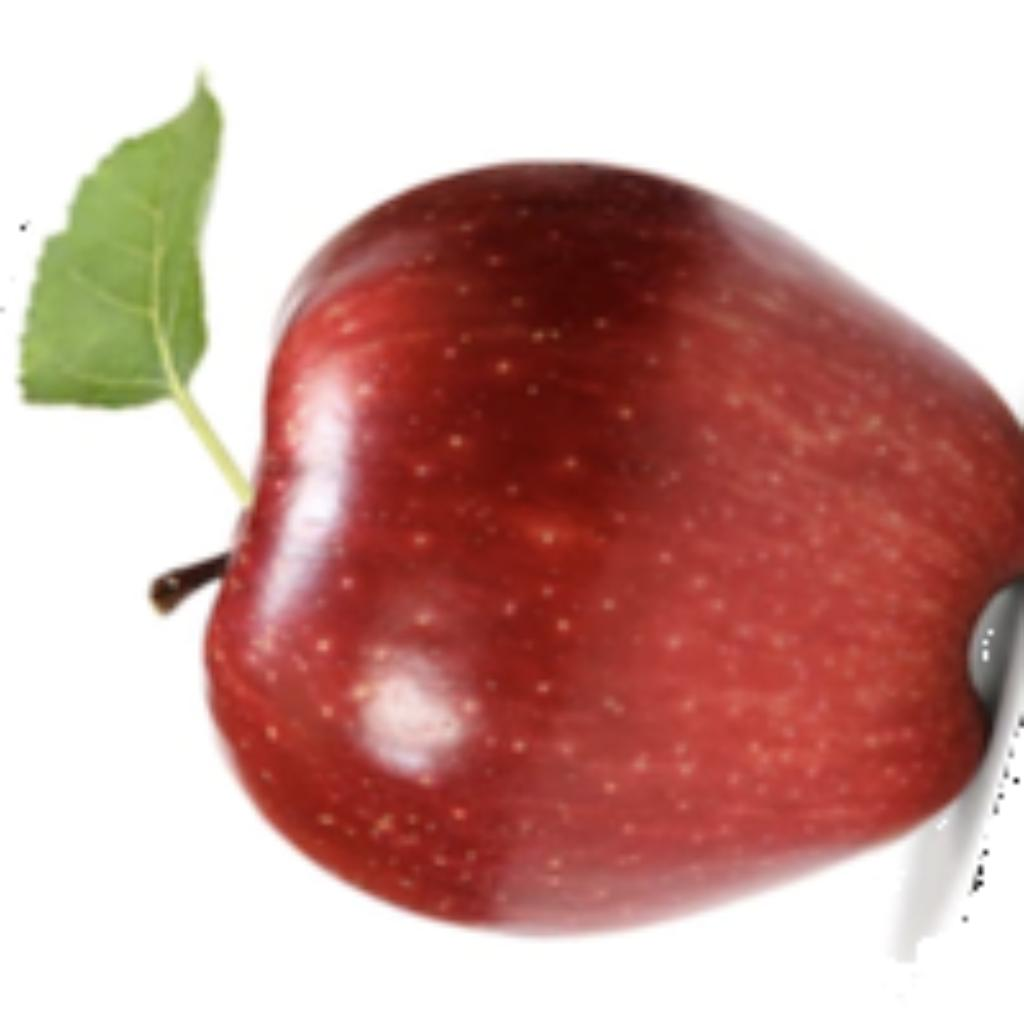apple: (5, 61, 1019, 965)
